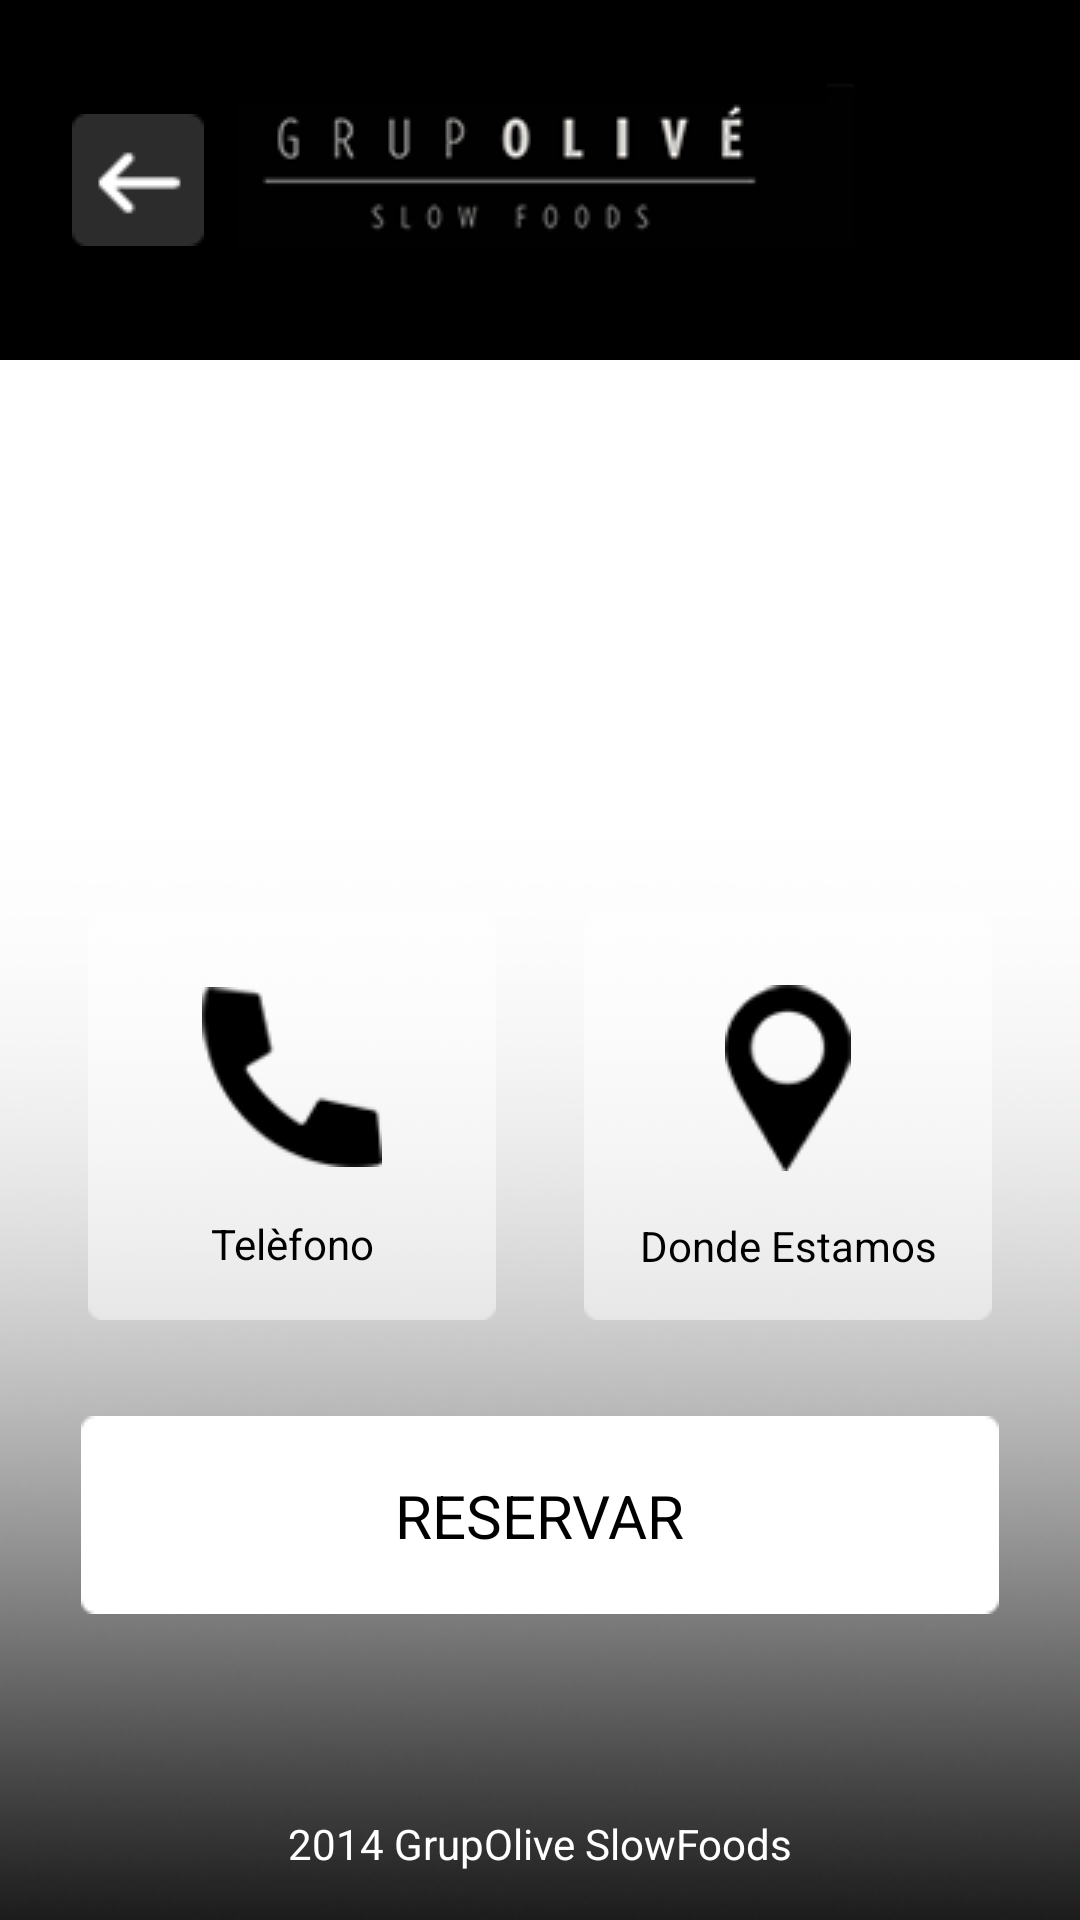

Point at icon controls on the screen. Image size 1080px x 1920px, points as (x=x, y=y).
back: (x=138, y=180)
geoloc: (x=788, y=1078)
phone: (x=292, y=1077)
